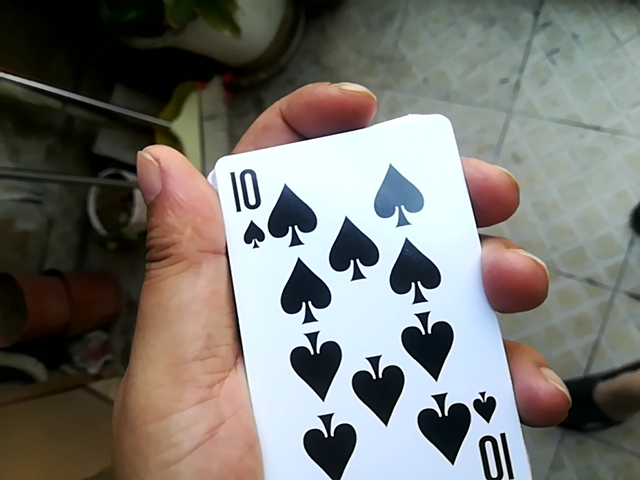ht 10: (199, 99, 512, 477)
